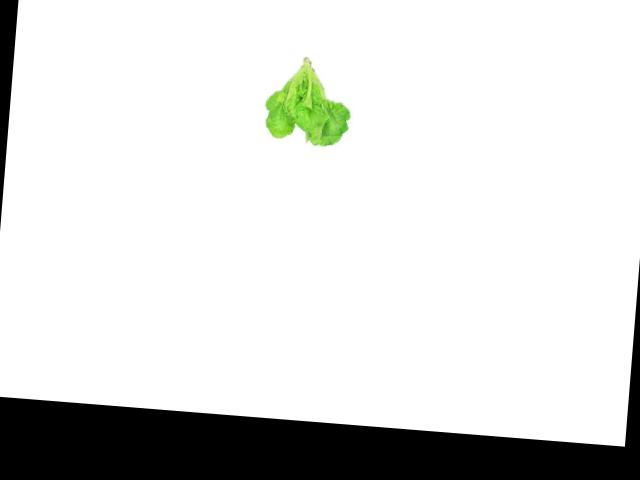lettuce: (259, 51, 359, 153)
